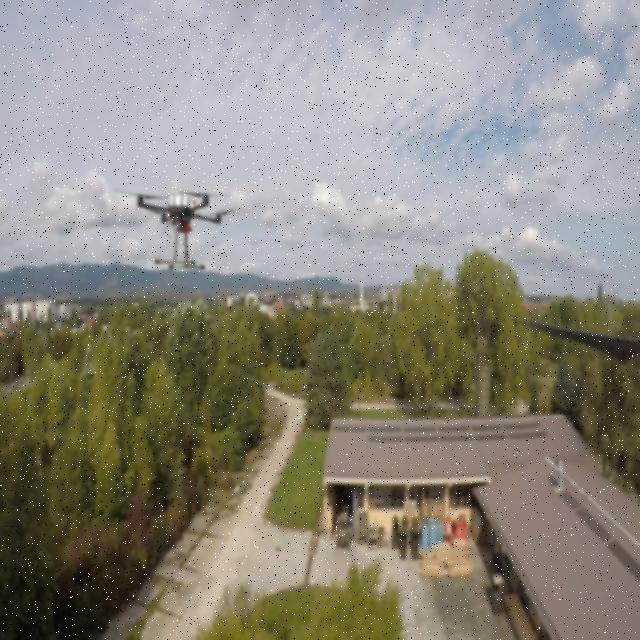UAV: (111, 181, 241, 275)
